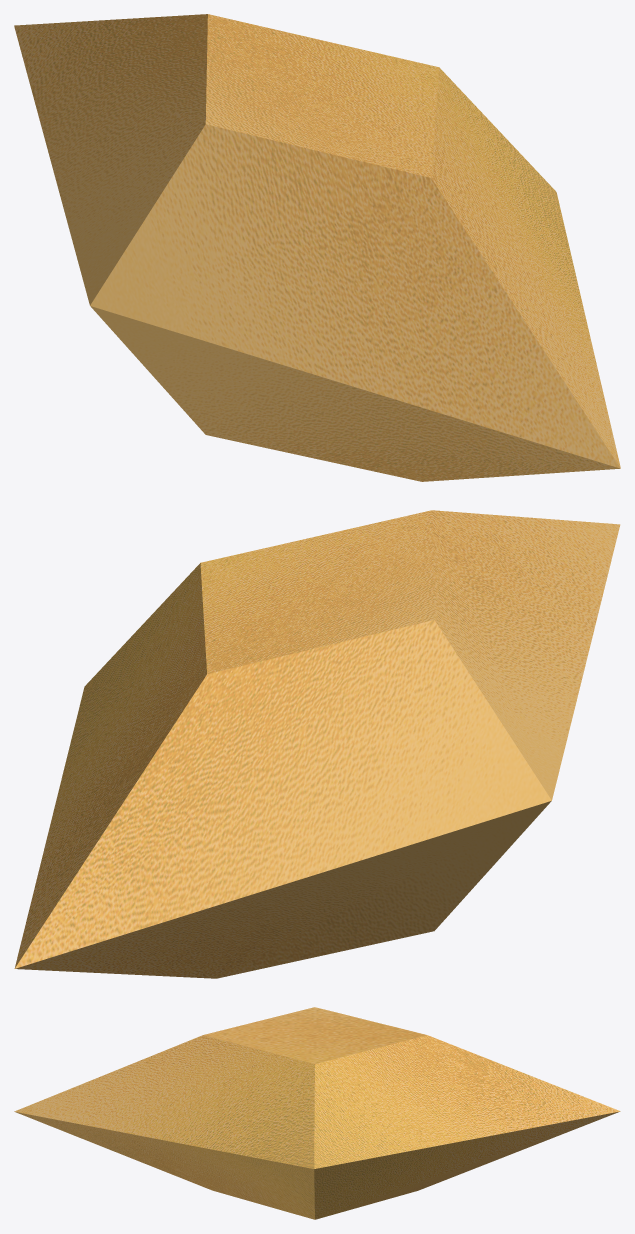
The model's file is Collectables .fbx.
3 renders of one model, top to bottom at view 1: azimuth 30°, elevation 25°; view 2: azimuth 150°, elevation 25°; view 3: azimuth 270°, elevation 25°, orthographic. The views are drawn at different scales.
Parts seen in each view (by area): view 1: Collectables; view 2: Collectables; view 3: Collectables.
Part boxes in pixels (x1,y1,x2,y2): Collectables: (14,14,620,481); Collectables: (14,510,620,978); Collectables: (14,1007,620,1219).
Bounding box in the file's own units: 10.01 × 6.37 × 22.52.
